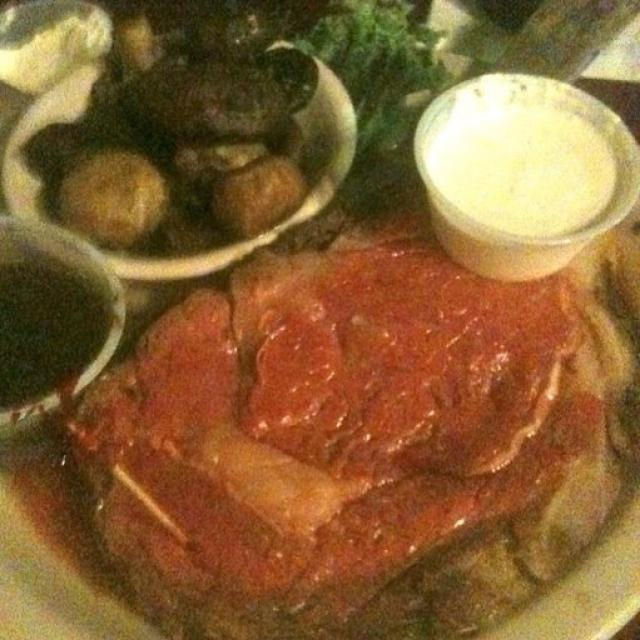beef: (86, 278, 600, 598), (233, 194, 580, 471)
yogurt: (430, 86, 618, 242)
